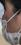with_mask: (1, 2, 21, 45)
